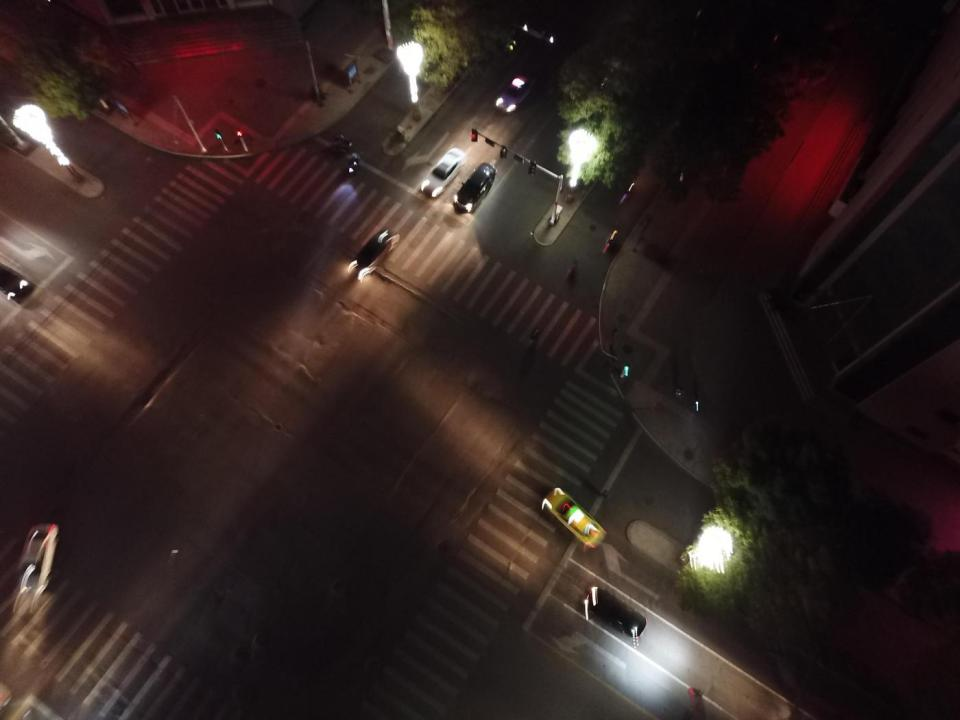car: (620, 665, 705, 720), (540, 487, 608, 550), (12, 525, 60, 613), (582, 588, 646, 638), (346, 228, 399, 280), (418, 147, 466, 198), (453, 162, 496, 214), (496, 72, 535, 112), (0, 261, 36, 303)
